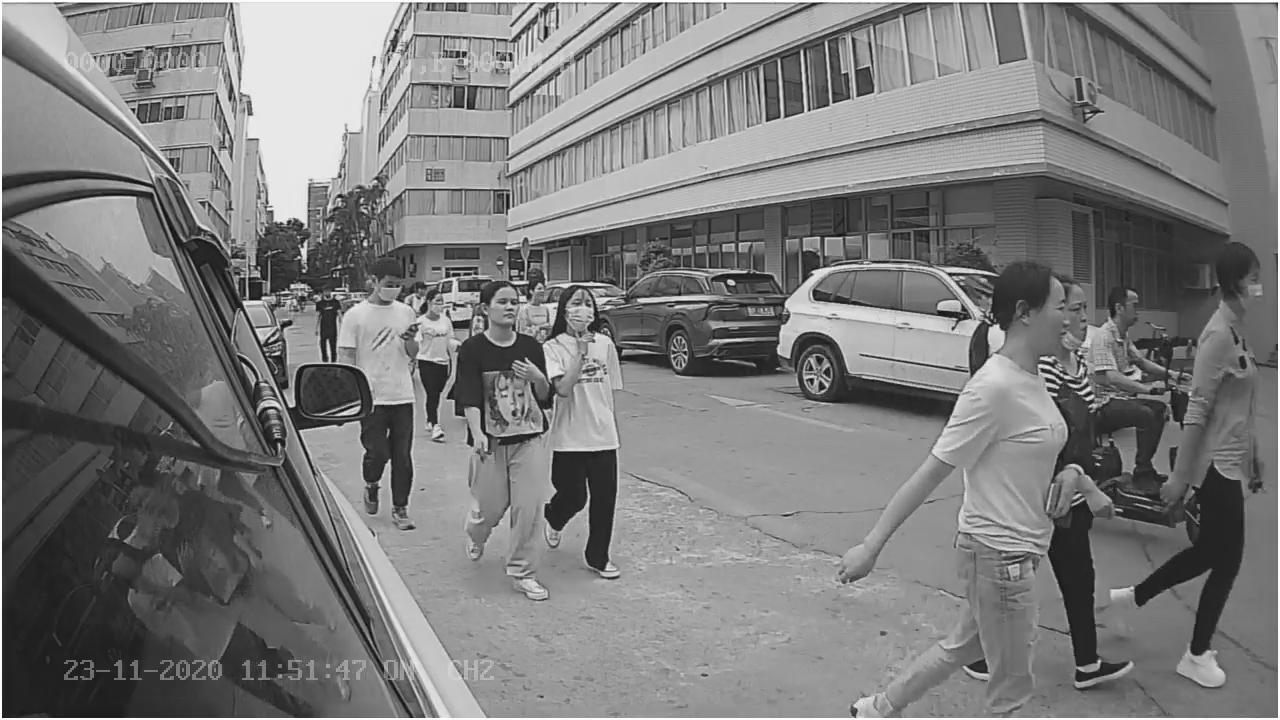person: (1110, 228, 1251, 678), (455, 266, 559, 604)
